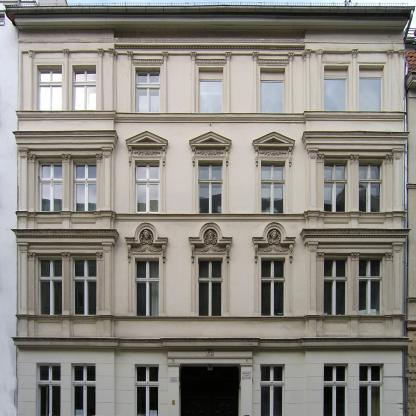Building Outline: (3, 3, 416, 416)
Cornice: (301, 131, 410, 150), (12, 130, 119, 148), (124, 222, 169, 264), (188, 222, 233, 264), (252, 222, 297, 263), (124, 130, 168, 166), (252, 131, 296, 167), (300, 228, 412, 242), (189, 130, 232, 166), (10, 229, 120, 242), (257, 58, 289, 64), (132, 58, 164, 64), (195, 58, 227, 64)
Door: (179, 363, 241, 416), (180, 367, 239, 415)
Facade: (2, 2, 410, 416)
Floor: (18, 240, 403, 338), (18, 130, 403, 228)
Floor Slab: (18, 338, 403, 351), (18, 130, 403, 142), (18, 228, 403, 240)
Ground Floor: (18, 350, 403, 415)
Molding: (10, 337, 411, 351), (15, 110, 406, 124), (15, 210, 408, 222), (15, 314, 406, 322), (114, 38, 305, 51)
Pillar: (392, 242, 403, 315), (308, 242, 318, 315), (18, 242, 28, 315), (102, 242, 112, 315), (392, 149, 403, 211), (19, 148, 29, 211), (102, 147, 112, 210), (308, 148, 318, 210), (350, 154, 359, 212), (27, 154, 36, 211), (62, 154, 71, 211), (351, 252, 359, 316), (27, 251, 35, 315), (62, 251, 70, 315), (385, 253, 393, 315), (385, 154, 393, 212), (317, 252, 324, 316), (97, 251, 104, 315), (97, 48, 104, 110), (108, 48, 115, 110), (316, 49, 323, 111), (387, 50, 394, 112), (398, 50, 405, 112), (63, 49, 70, 110), (162, 52, 169, 113), (190, 52, 197, 113), (225, 52, 232, 113), (252, 52, 259, 113), (317, 154, 324, 212), (96, 154, 103, 211), (288, 52, 294, 114), (305, 49, 311, 111), (352, 49, 358, 111), (28, 50, 34, 111), (127, 51, 133, 112)
Top Floor: (18, 31, 403, 129)
Window: (198, 257, 223, 316), (261, 257, 286, 316), (72, 257, 97, 315), (359, 256, 383, 315), (135, 257, 159, 316), (198, 260, 223, 316), (38, 257, 62, 315), (324, 257, 348, 315), (135, 260, 159, 316), (261, 260, 285, 316), (198, 160, 223, 213), (359, 363, 384, 416), (71, 363, 96, 416), (134, 364, 159, 416), (260, 364, 285, 416), (36, 362, 60, 416), (135, 160, 159, 213), (261, 160, 285, 213), (324, 363, 348, 416), (359, 160, 383, 212), (324, 160, 348, 212), (40, 259, 62, 315), (74, 259, 96, 315), (38, 160, 62, 211), (73, 160, 97, 211), (359, 365, 383, 416), (260, 365, 284, 416), (324, 365, 348, 416), (359, 260, 381, 315), (324, 260, 346, 315), (359, 66, 385, 112), (198, 67, 224, 113), (260, 67, 286, 113), (324, 65, 350, 111), (38, 364, 61, 416), (73, 364, 96, 416), (136, 364, 159, 416), (261, 164, 285, 213), (198, 164, 222, 213), (136, 164, 160, 213), (136, 67, 161, 112), (37, 65, 62, 110), (72, 65, 96, 110), (74, 162, 96, 211), (40, 162, 62, 211), (136, 72, 160, 112), (39, 70, 62, 110), (74, 70, 96, 110), (199, 80, 223, 113), (261, 80, 285, 113)
